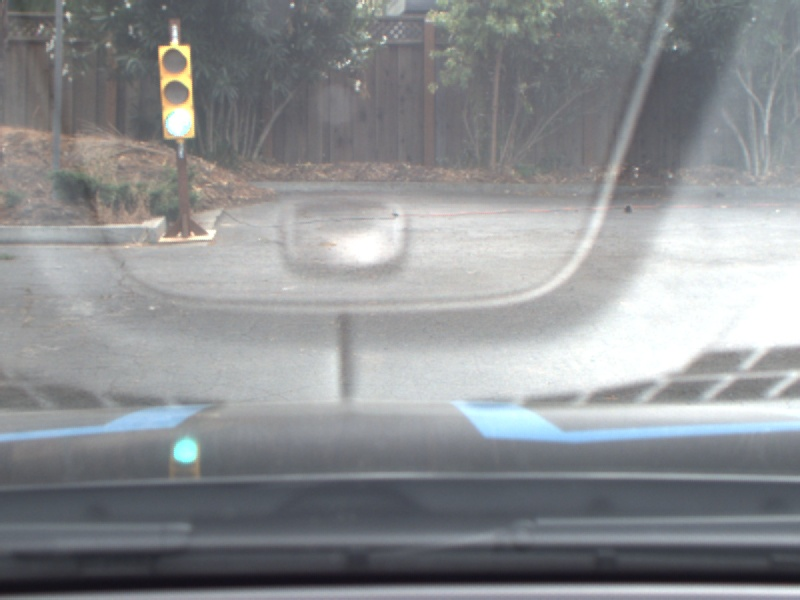green: (151, 37, 202, 142)
